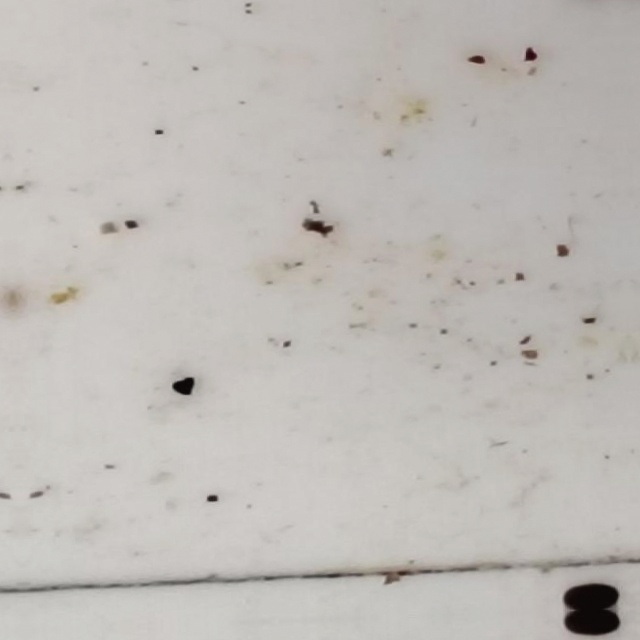varroa: (560, 581, 621, 610)
